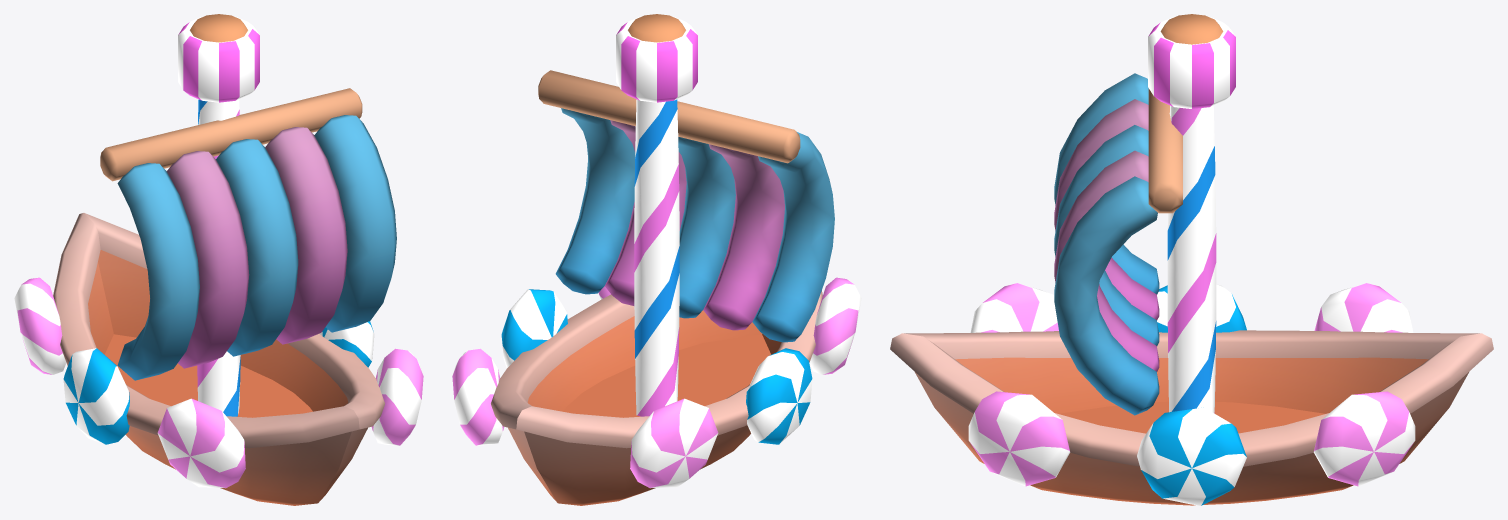
File: SweetBoat_01.glb
The picture shows the model from 3 angles, left to right: view 1: azimuth 30°, elevation 25°; view 2: azimuth 150°, elevation 25°; view 3: azimuth 270°, elevation 25°; orthographic projection. The views are drawn at different scales.
Visible parts, largest first — view 1: SweetBoat_01; view 2: SweetBoat_01; view 3: SweetBoat_01.
Boxes of the visible parts, x1,y1,x2,y2 form: SweetBoat_01: (14,14,423,505); SweetBoat_01: (452,14,861,505); SweetBoat_01: (890,14,1493,505).
Size of the model in its own units: 4.19 by 5.94 by 7.25.
2 materials, 2 textured.
